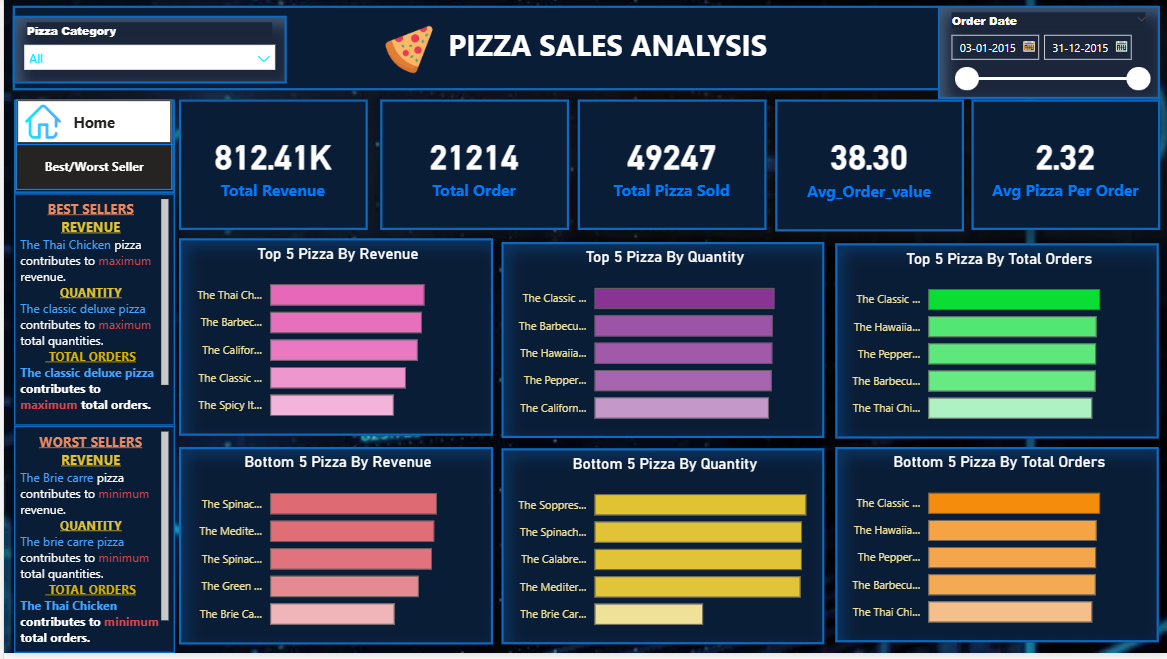

Layout of this report page (visuals, bound fields, positions):
{"tool":"powerbi","page":{"name":"Best/Worst Seller","canvas":[1280,720],"ordinal":1},"visuals":[{"type":"shape","box":[11,112.5,177,102.9],"z":0},{"type":"card","fields":{"Values":["pizza_sales.Total Revenue"]},"box":[191.8,112.2,207.5,143.6],"z":1000},{"type":"shape","box":[9.7,9.7,1258.3,92.9],"z":2000},{"type":"textbox","box":[412.6,26.5,499.5,65.1],"z":3000},{"type":"card","fields":{"Values":["pizza_sales.Total Order"]},"box":[412.6,112.2,207.5,143.6],"z":4000},{"type":"textbox","box":[11,215.4,177,255.2],"z":5000},{"type":"card","fields":{"Values":["pizza_sales.Total Pizza Sold"]},"box":[629.8,112.2,207.5,143.6],"z":6000},{"type":"card","fields":{"Values":["pizza_sales.Avg_Order_value"]},"box":[846.9,112.2,207.5,144.8],"z":7000},{"type":"card","fields":{"Values":["pizza_sales.Avg Pizza Per Order"]},"box":[1061.7,112.2,207.5,143.6],"z":8000},{"type":"textbox","box":[11,470.7,177,249.7],"z":9000},{"type":"slicer","fields":{"Values":["pizza_sales.pizza_category"]},"box":[9.7,20.5,300.4,74.8],"z":10000},{"type":"slicer","fields":{"Values":["pizza_sales.order_date"]},"box":[1025.5,9.7,243.7,102.5],"z":11000},{"type":"clusteredBarChart","title":"Bottom 5 Pizza By Revenue","fields":{"Category":["pizza_sales.pizza_name"],"Y":["pizza_sales.Total Revenue"]},"box":[192.1,494,344.4,216.8],"z":12000},{"type":"clusteredBarChart","title":"Top 5 Pizza By Quantity","fields":{"Category":["pizza_sales.pizza_name"],"Y":["Sum(pizza_sales.quantity)"]},"box":[546.1,269,354,215.4],"z":13000},{"type":"clusteredBarChart","title":"Top 5 Pizza By Total Orders","fields":{"Category":["pizza_sales.pizza_name"],"Y":["pizza_sales.Total Order"]},"box":[912.5,270.3,355.4,214.1],"z":14000},{"type":"pageNavigator","box":[13.7,161.9,171.5,49.4],"z":15000},{"type":"pageNavigator","box":[13.7,112.5,171.5,49.4],"z":16000},{"type":"clusteredBarChart","title":"Top 5 Pizza By Revenue","fields":{"Category":["pizza_sales.pizza_name"],"Y":["pizza_sales.Total Revenue"]},"box":[192.1,264.8,344.4,216.8],"z":17000},{"type":"clusteredBarChart","title":"Bottom 5 Pizza By Quantity","fields":{"Category":["pizza_sales.pizza_name"],"Y":["Sum(pizza_sales.quantity)"]},"box":[546.1,495.4,354,215.4],"z":18000},{"type":"clusteredBarChart","title":"Bottom 5 Pizza By Total Orders","fields":{"Category":["pizza_sales.pizza_name"],"Y":["pizza_sales.Total Order"]},"box":[912.5,494,355.4,214.1],"z":19000},{"type":"image","box":[13.7,112.5,59,49.4],"z":20000},{"type":"image","box":[413,26.1,63.1,63.1],"z":21000}]}

Visuals, with their boxes in screenshot pixels (x1, y1, x2, y2), scaled from the page's 1280x720 canvas onto the 1167x659 screenshot:
shape: region(10, 103, 171, 197)
card - pizza_sales.Total Revenue: region(175, 103, 364, 234)
shape: region(9, 9, 1156, 94)
textbox: region(376, 24, 832, 84)
card - pizza_sales.Total Order: region(376, 103, 565, 234)
textbox: region(10, 197, 171, 431)
card - pizza_sales.Total Pizza Sold: region(574, 103, 763, 234)
card - pizza_sales.Avg_Order_value: region(772, 103, 961, 235)
card - pizza_sales.Avg Pizza Per Order: region(968, 103, 1157, 234)
textbox: region(10, 431, 171, 658)
slicer - pizza_sales.pizza_category: region(9, 19, 283, 87)
slicer - pizza_sales.order_date: region(935, 9, 1157, 103)
"Bottom 5 Pizza By Revenue" clusteredBarChart: region(175, 452, 489, 651)
"Top 5 Pizza By Quantity" clusteredBarChart: region(498, 246, 821, 443)
"Top 5 Pizza By Total Orders" clusteredBarChart: region(832, 247, 1156, 443)
pageNavigator: region(12, 148, 169, 193)
pageNavigator: region(12, 103, 169, 148)
"Top 5 Pizza By Revenue" clusteredBarChart: region(175, 242, 489, 441)
"Bottom 5 Pizza By Quantity" clusteredBarChart: region(498, 453, 821, 651)
"Bottom 5 Pizza By Total Orders" clusteredBarChart: region(832, 452, 1156, 648)
image: region(12, 103, 66, 148)
image: region(377, 24, 434, 82)
